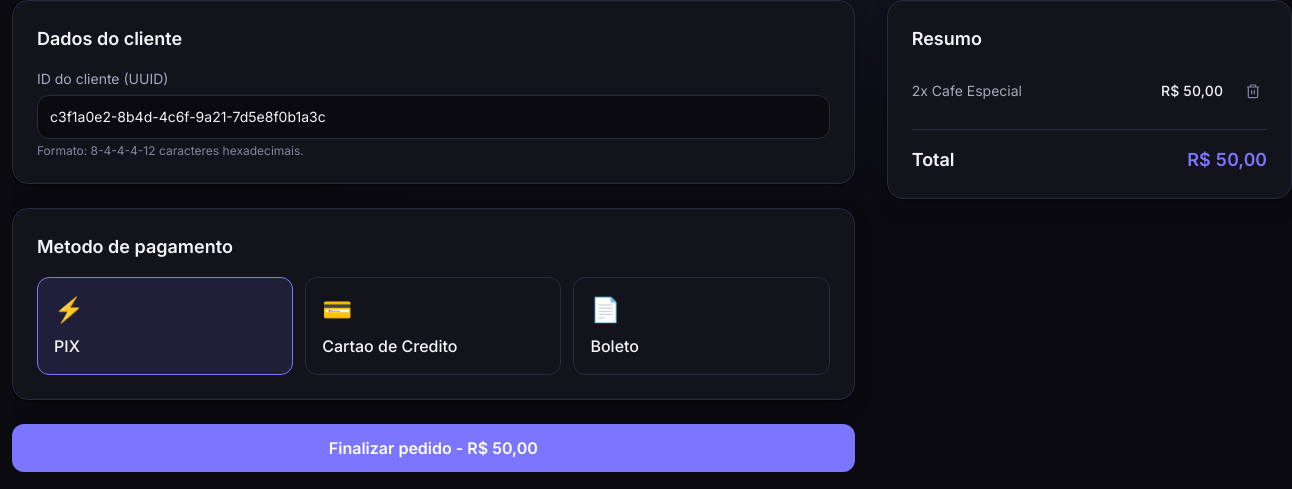
Scenario: CheckoutForm › remove um item do carrinho ao clicar em excluir
This screenshot has width=1292, height=489.
Click the button named "remover cafe especial": (1253, 91) [1231,69,1275,113]
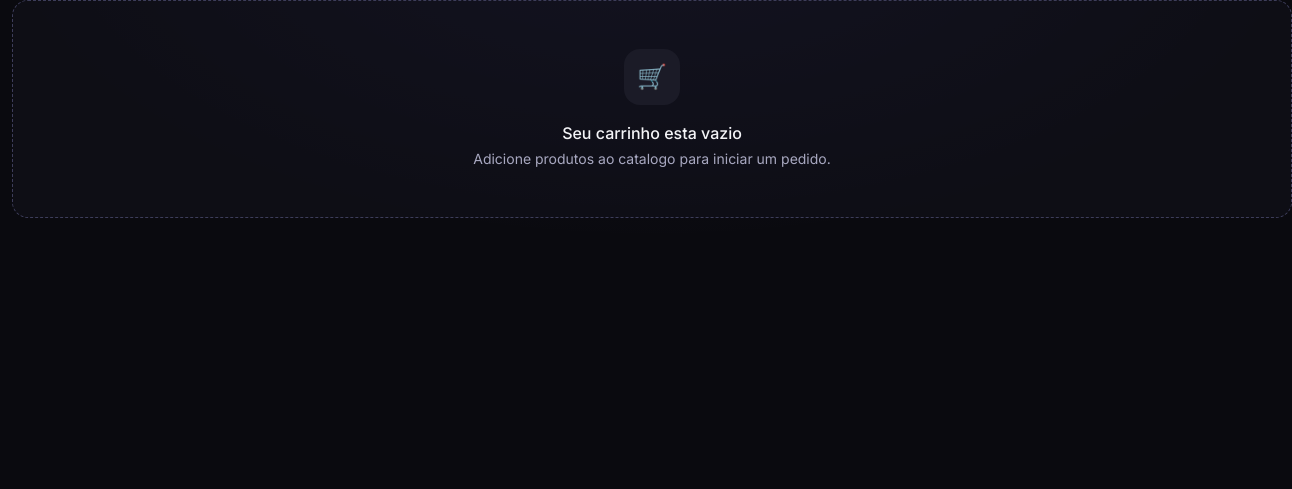
Check: the text "Seu carrinho esta vazio" is shown, box [562,123,742,143]
